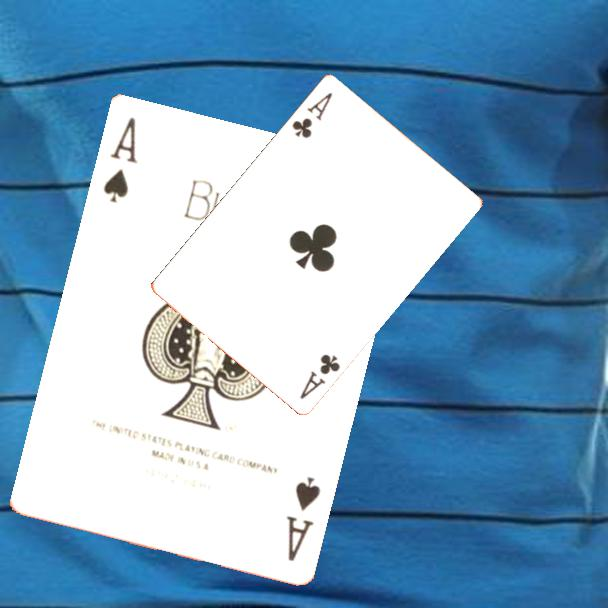c01: (288, 88, 336, 141), (296, 350, 343, 402)
s01: (99, 113, 140, 205), (282, 472, 323, 563)
